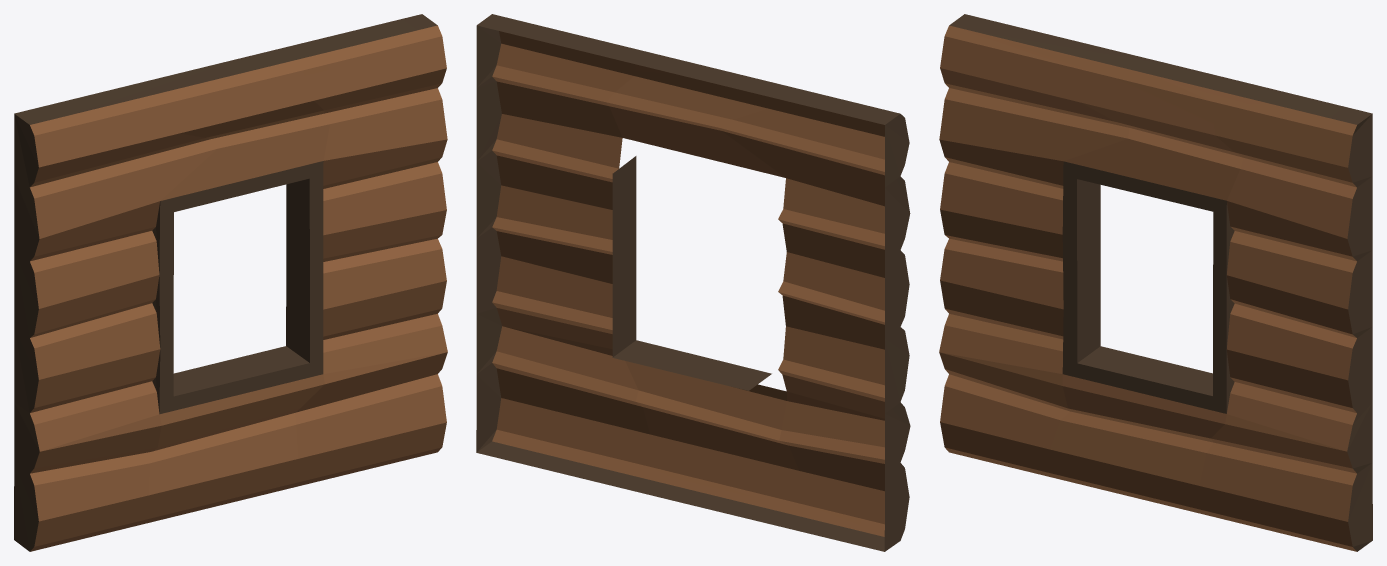
Rendered from wall-wood-window-horizontal-3x3m.fbx.
The picture shows the model from 3 angles, left to right: view 1: azimuth 30°, elevation 25°; view 2: azimuth 150°, elevation 25°; view 3: azimuth 330°, elevation 25°; orthographic projection.
Parts seen in each view (by area): view 1: wall-wood-window-horizontal-3x3m; view 2: wall-wood-window-horizontal-3x3m; view 3: wall-wood-window-horizontal-3x3m.
Part boxes in pixels (x1,y1,x2,y2): wall-wood-window-horizontal-3x3m: (14, 14, 447, 551); wall-wood-window-horizontal-3x3m: (476, 14, 910, 551); wall-wood-window-horizontal-3x3m: (939, 14, 1372, 551).
Size of the model in its own units: 3 by 3 by 0.3278.
